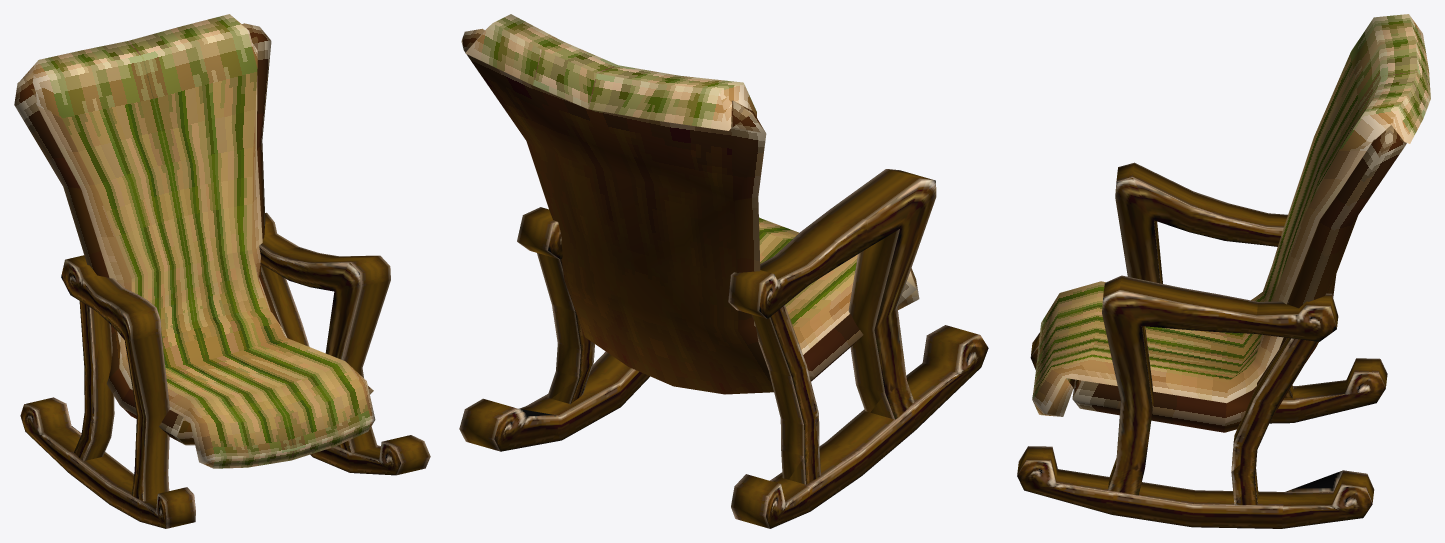
The model's file is Rocking Chair.obj.
The picture shows the model from 3 angles, left to right: view 1: azimuth 30°, elevation 25°; view 2: azimuth 150°, elevation 25°; view 3: azimuth 270°, elevation 25°; orthographic projection. The views are drawn at different scales.
Parts seen in each view (by area): view 1: 5, 7, 2, 4, 8, 6, 3, 1; view 2: 4, 7, 5, 8, 3, 6, 1, 2; view 3: 5, 2, 3, 4, 7, 1, 8.
Part boxes in pixels (bbox=[...]): 5: bbox=[20, 14, 375, 468]; 7: bbox=[61, 255, 169, 501]; 2: bbox=[259, 212, 390, 452]; 4: bbox=[14, 23, 373, 445]; 8: bbox=[20, 397, 195, 528]; 6: bbox=[74, 301, 114, 461]; 3: bbox=[310, 435, 430, 475]; 1: bbox=[261, 264, 309, 346]; 4: bbox=[461, 28, 916, 394]; 7: bbox=[728, 169, 936, 419]; 5: bbox=[465, 14, 919, 354]; 8: bbox=[731, 325, 988, 528]; 3: bbox=[459, 351, 649, 451]; 6: bbox=[751, 305, 820, 484]; 1: bbox=[537, 253, 594, 404]; 2: bbox=[517, 207, 562, 259]; 5: bbox=[1032, 14, 1430, 416]; 2: bbox=[1102, 275, 1338, 495]; 3: bbox=[1017, 446, 1374, 528]; 4: bbox=[1072, 125, 1406, 432]; 7: bbox=[1115, 162, 1287, 283]; 1: bbox=[1231, 338, 1316, 505]; 8: bbox=[1030, 332, 1387, 423].
Bounding box in the file's own units: 209 × 280 × 255.
2 materials, 2 textured.
